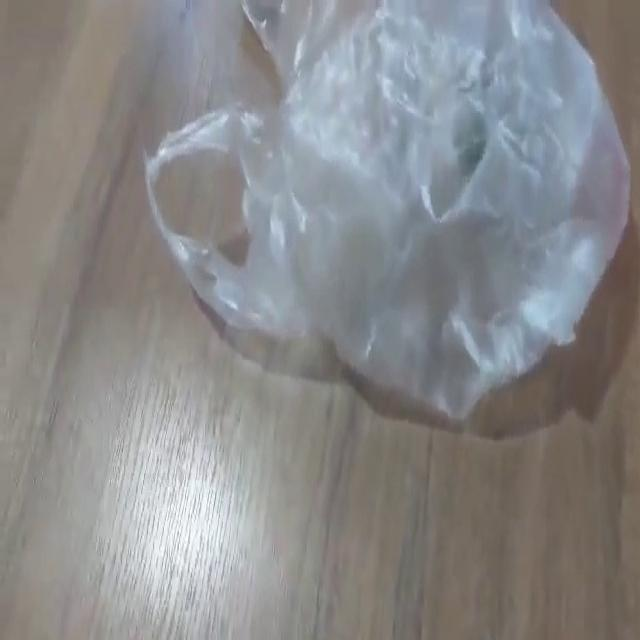Anorganik: (141, 2, 634, 430)
